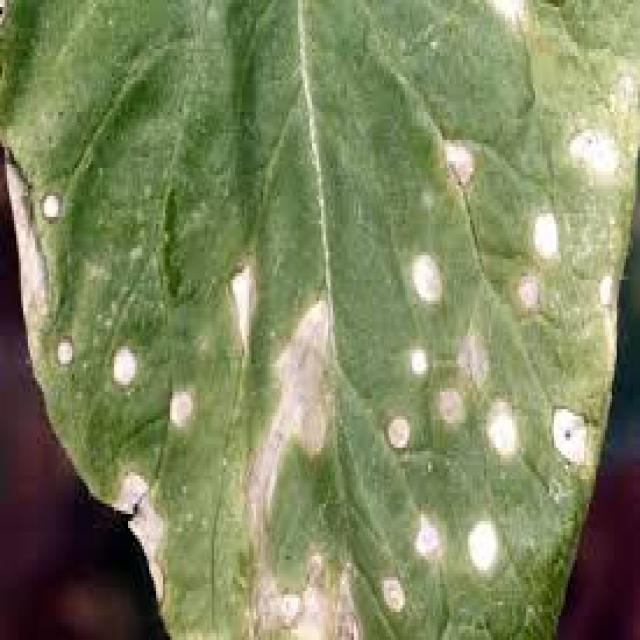bercak_daun: (360, 202, 583, 610)
